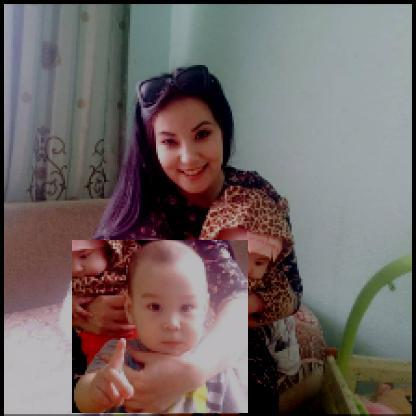child: (73, 241, 250, 415), (193, 184, 297, 338)
